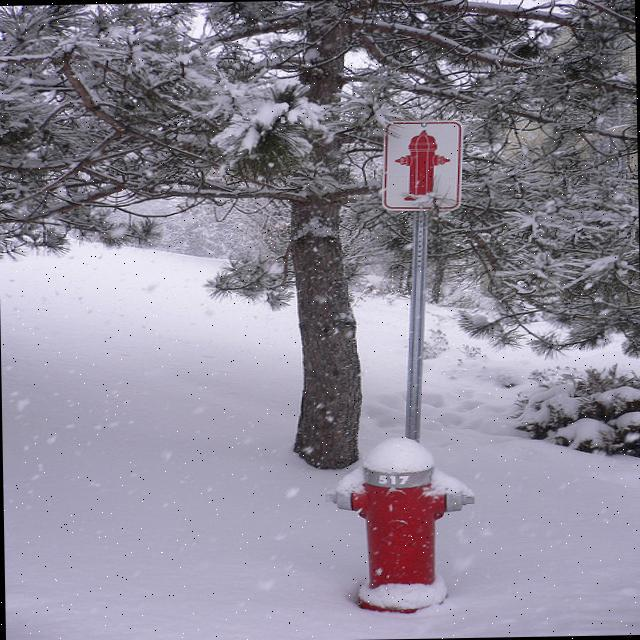fire_hydrant: (325, 438, 474, 612), (393, 128, 450, 196)
